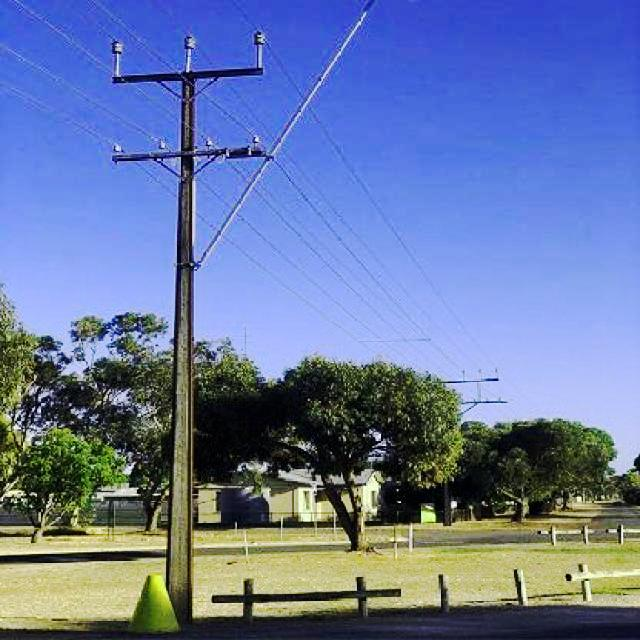poles: (99, 22, 279, 588)
wires: (248, 84, 525, 382), (0, 2, 148, 146)
